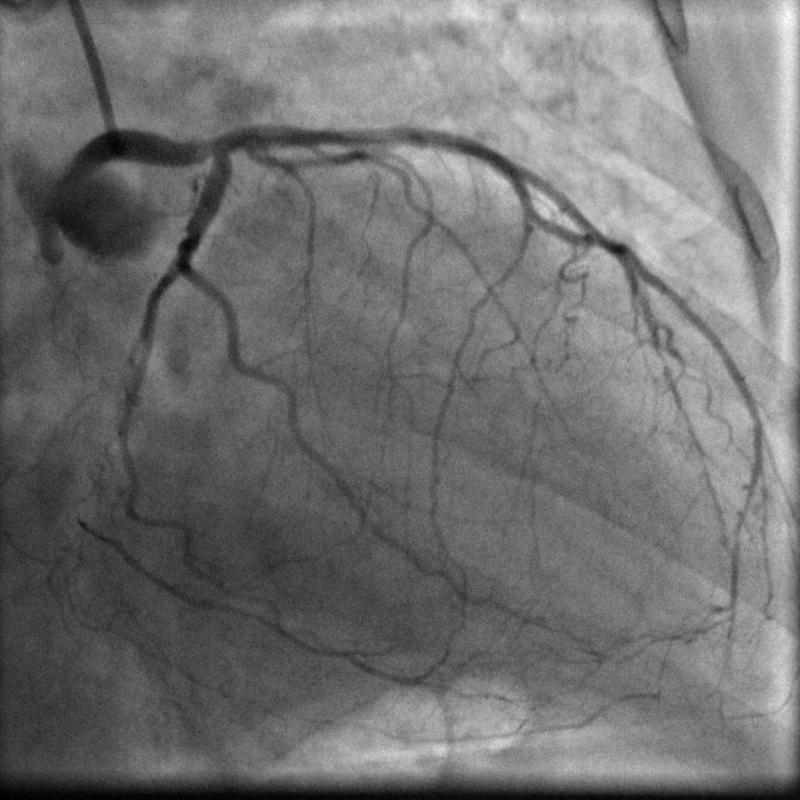Stenosis: (343, 124, 414, 149)
